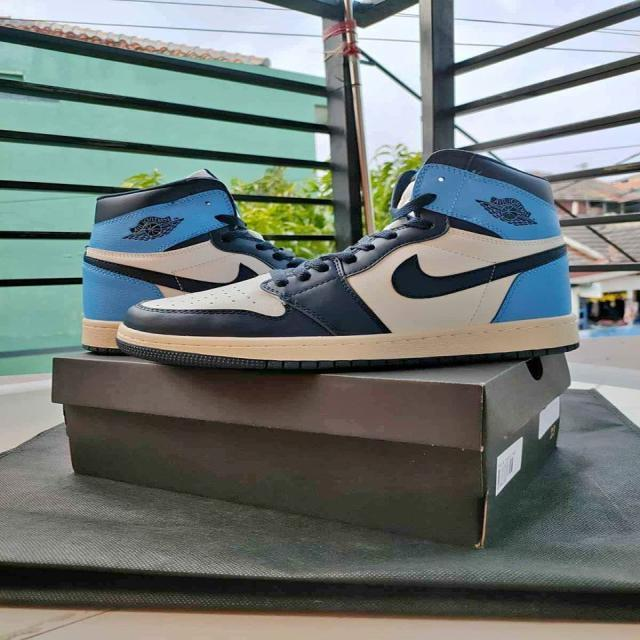nike original jordan 1: (111, 150, 578, 376), (78, 167, 418, 357)
